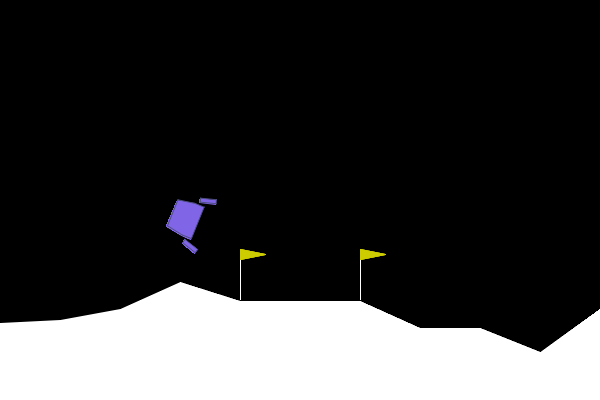lander: (159, 185, 219, 255)
